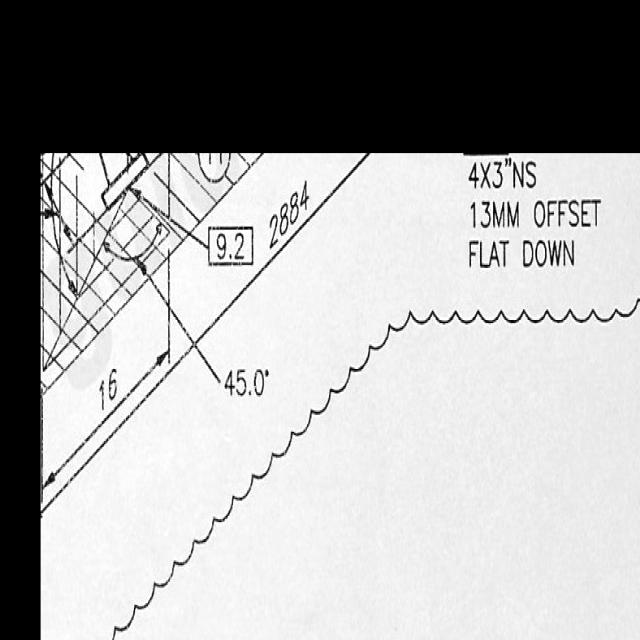Item number: (207, 221, 255, 269)
Measrement: (42, 150, 373, 520), (467, 155, 540, 193)
